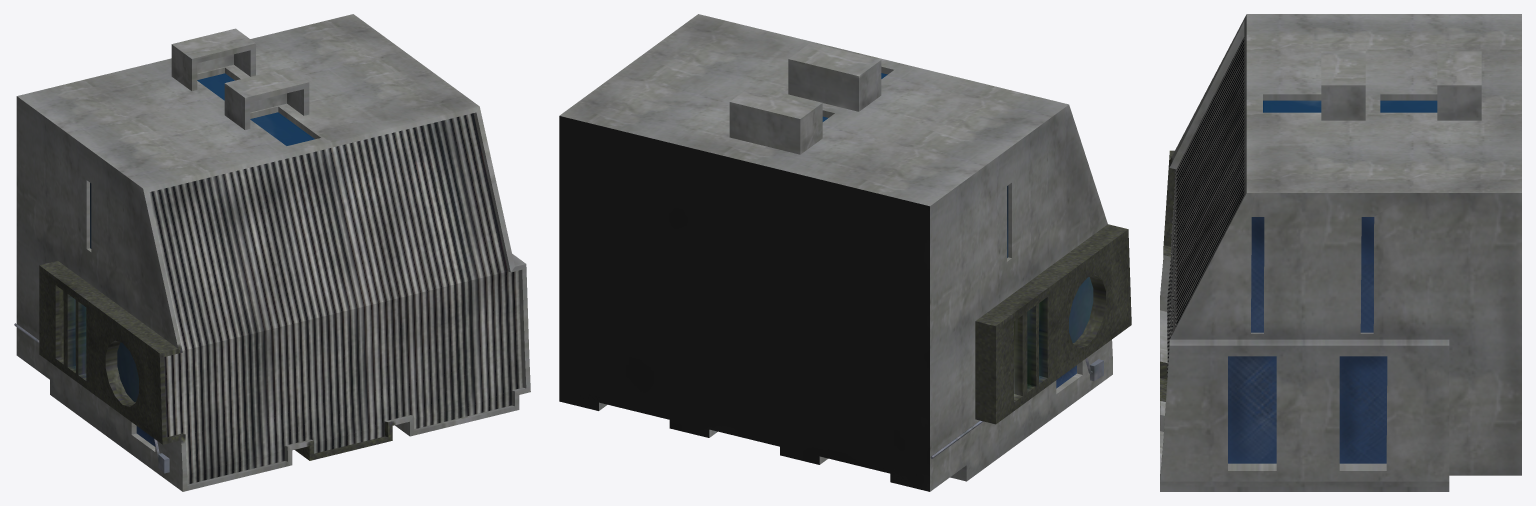
File: 10091_townhome_V1_L1.obj
3 views of the same model, side by side, from view 1: azimuth 30°, elevation 25°; view 2: azimuth 150°, elevation 25°; view 3: azimuth 270°, elevation 25° (orthographic). The views are drawn at different scales.
Parts seen in each view (by area): view 1: 10091_townhome_V1_Max2008; view 2: 10091_townhome_V1_Max2008; view 3: 10091_townhome_V1_Max2008.
Boxes of the visible parts, <box> form: 10091_townhome_V1_Max2008: <box>14,14,530,491</box>; 10091_townhome_V1_Max2008: <box>559,14,1131,491</box>; 10091_townhome_V1_Max2008: <box>1160,14,1521,491</box>.
Size of the model in its own units: 1404 by 1122 by 1101.
Materials: 1 (1 with a texture image).
